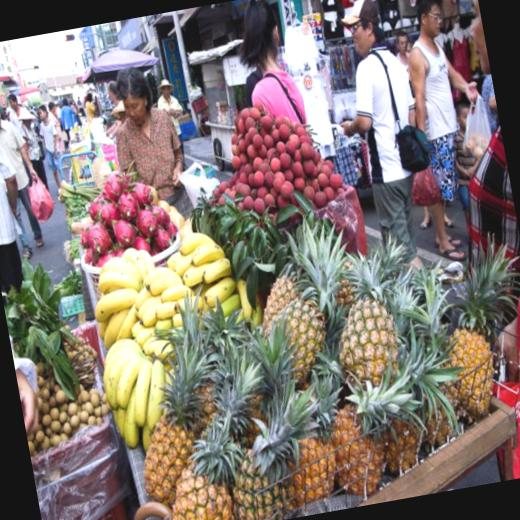Banana: (80, 223, 284, 454), (95, 328, 176, 458)
Mango: (101, 175, 520, 520), (101, 179, 520, 520), (127, 372, 230, 496)
